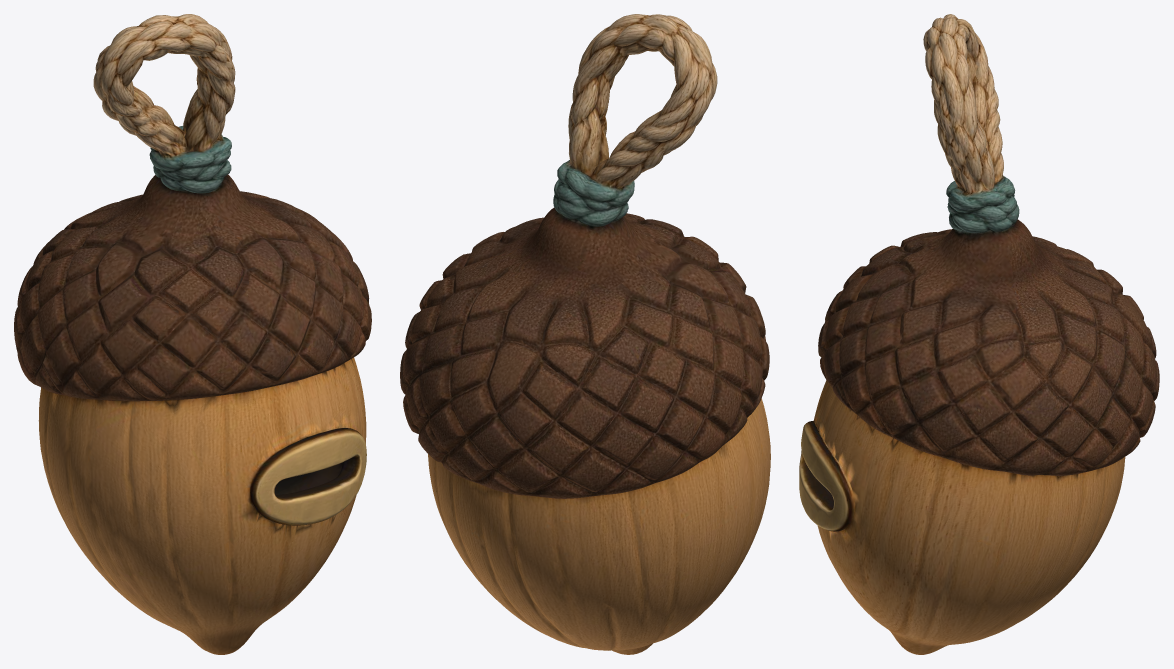
File: sound-pod-v1.glb
3 views of the same model, side by side, from view 1: azimuth 30°, elevation 25°; view 2: azimuth 150°, elevation 25°; view 3: azimuth 270°, elevation 25° (orthographic). The views are drawn at different scales.
Visible parts, largest first — view 1: sound_capsule; view 2: sound_capsule; view 3: sound_capsule.
Boxes of the visible parts, x1,y1,x2,y2 form: sound_capsule: (14, 14, 371, 654); sound_capsule: (400, 14, 770, 654); sound_capsule: (799, 14, 1159, 654).
Size of the model in its own units: 0.4977 by 0.98 by 0.5249.
1 material, 1 textured.
